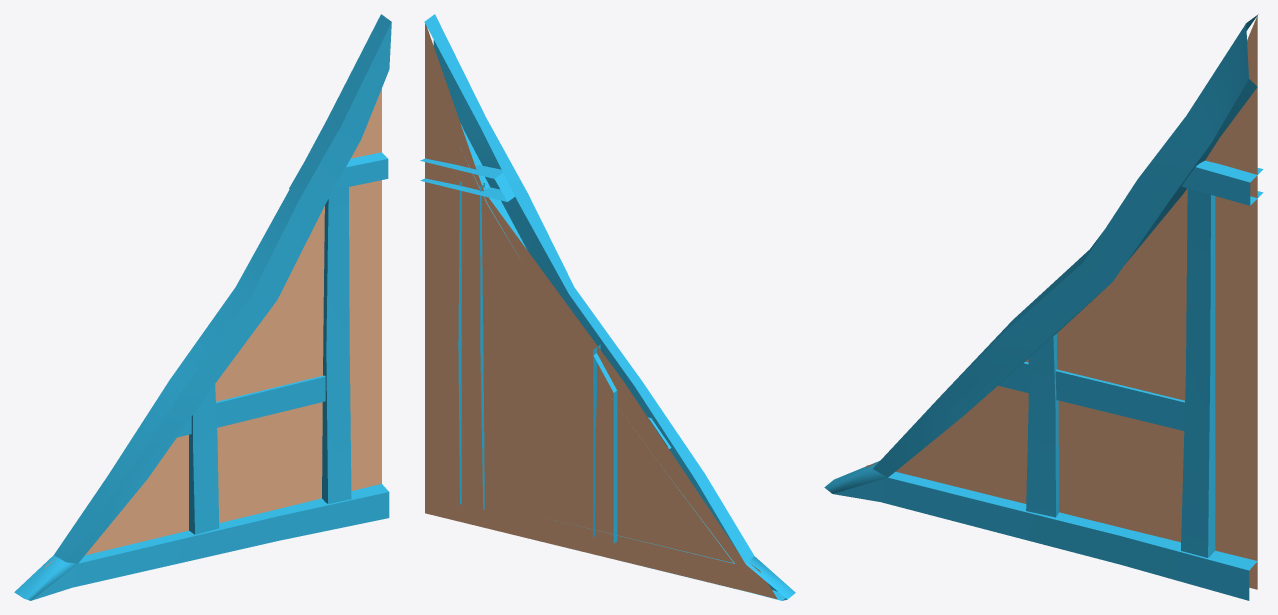
The model's file is Roof_Wall_01_wide_half_01.fbx.
The picture shows the model from 3 angles, left to right: view 1: azimuth 30°, elevation 25°; view 2: azimuth 150°, elevation 25°; view 3: azimuth 330°, elevation 25°; orthographic projection. The views are drawn at different scales.
Visible parts, largest first — view 1: Roof_Wall_01_wide_half_01; view 2: Roof_Wall_01_wide_half_01; view 3: Roof_Wall_01_wide_half_01.
Part boxes in pixels (bbox=[...]): Roof_Wall_01_wide_half_01: bbox=[14, 14, 391, 600]; Roof_Wall_01_wide_half_01: bbox=[420, 14, 795, 600]; Roof_Wall_01_wide_half_01: bbox=[824, 14, 1263, 600].
Bounding box in the file's own units: 524 × 681 × 37.94.
